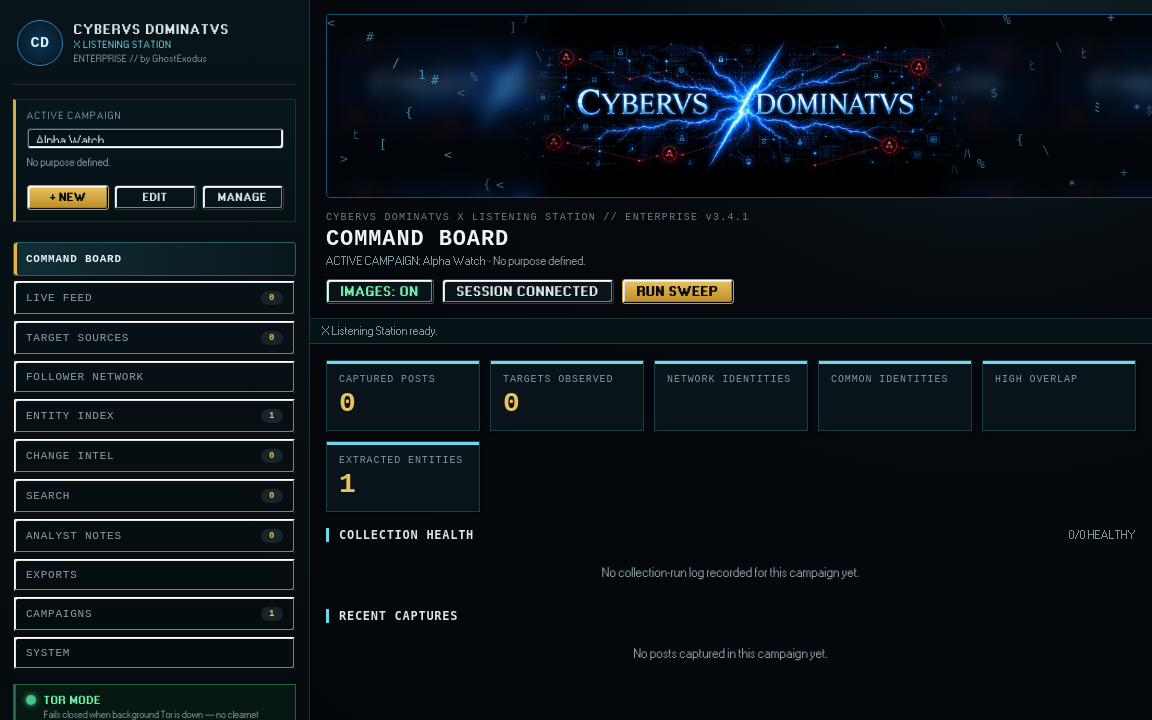
Test: X Listening ENTITY INDEX — display pics › renders a source-avatar chip per finding source (cached → image, uncached → monogram)
Click the button with class "xls-tab" showing "ENTITY INDEX 1": [70, 416] box [13, 398, 296, 434]
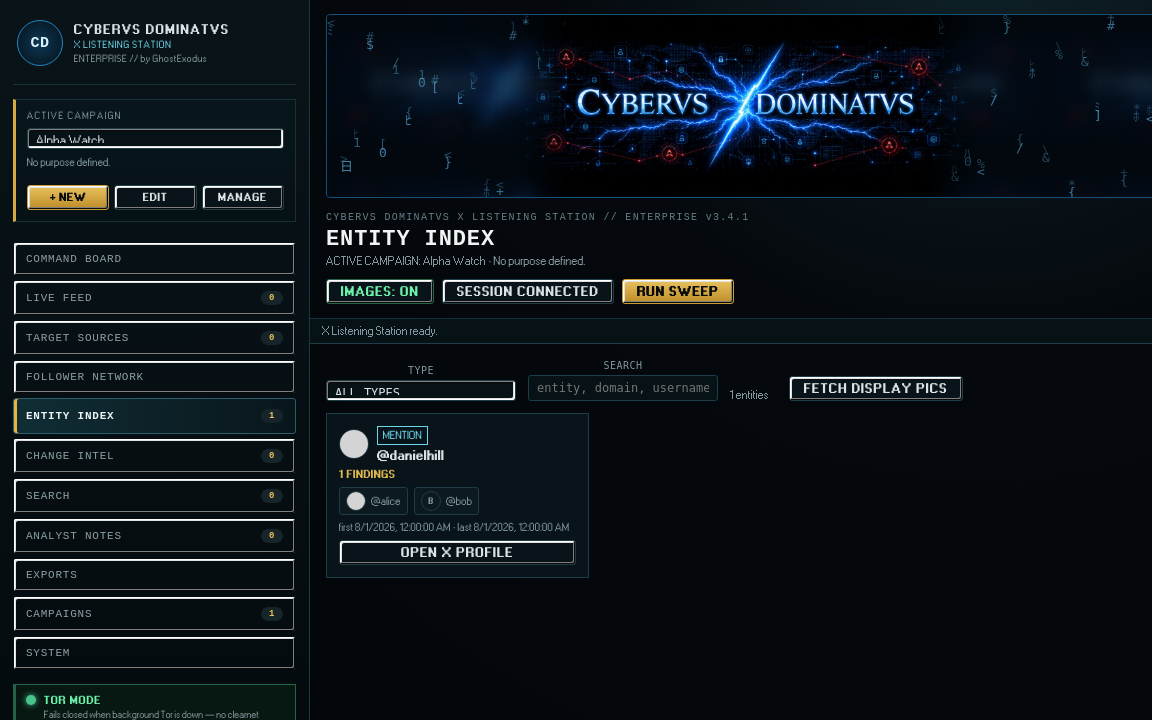
Expected: the number of elements with class "xls-entity-source" is 2, [339, 487, 408, 515]; [414, 487, 479, 515]
Expected: the element with class "xls-ident-avatar" reads "B", [428, 497, 434, 506]
